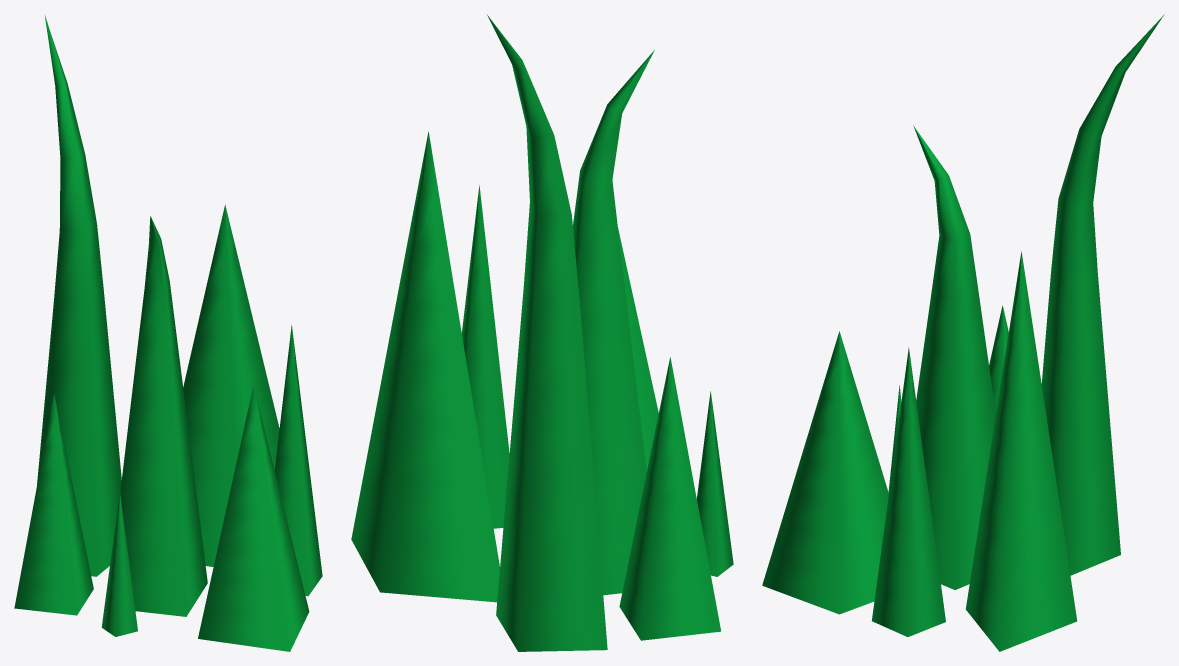
The model's file is Grassv2.fbx.
The picture shows the model from 3 angles, left to right: view 1: azimuth 30°, elevation 25°; view 2: azimuth 150°, elevation 25°; view 3: azimuth 270°, elevation 25°; orthographic projection. The views are drawn at different scales.
Visible parts, largest first — view 1: OG6; view 2: OG6; view 3: OG6.
Boxes of the visible parts, x1,y1,x2,y2 form: OG6: [14, 15, 322, 651]; OG6: [351, 15, 733, 651]; OG6: [762, 14, 1164, 651].
Bounding box in the file's own units: 11.22 × 18.92 × 12.71.
